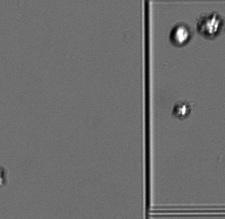Living Cell: (196, 10, 223, 39), (169, 23, 192, 48), (173, 101, 192, 120)
